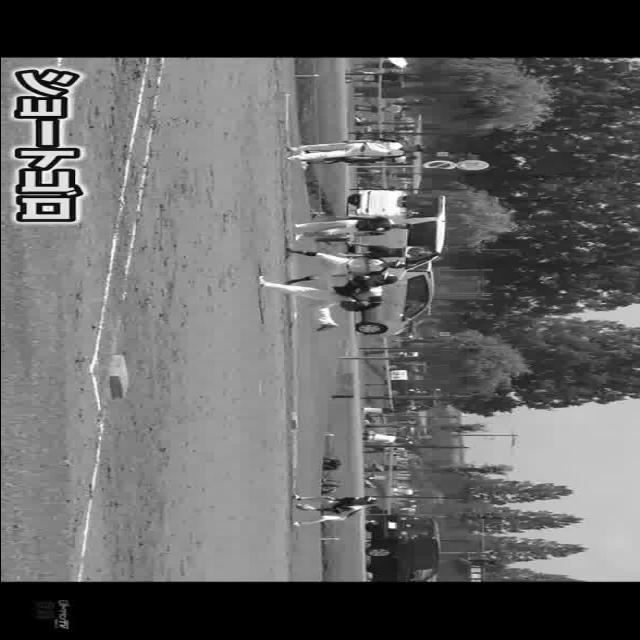base: (110, 356, 132, 398)
baseball_glove: (341, 300, 366, 314)
shoe: (310, 322, 340, 334), (252, 274, 269, 289)
